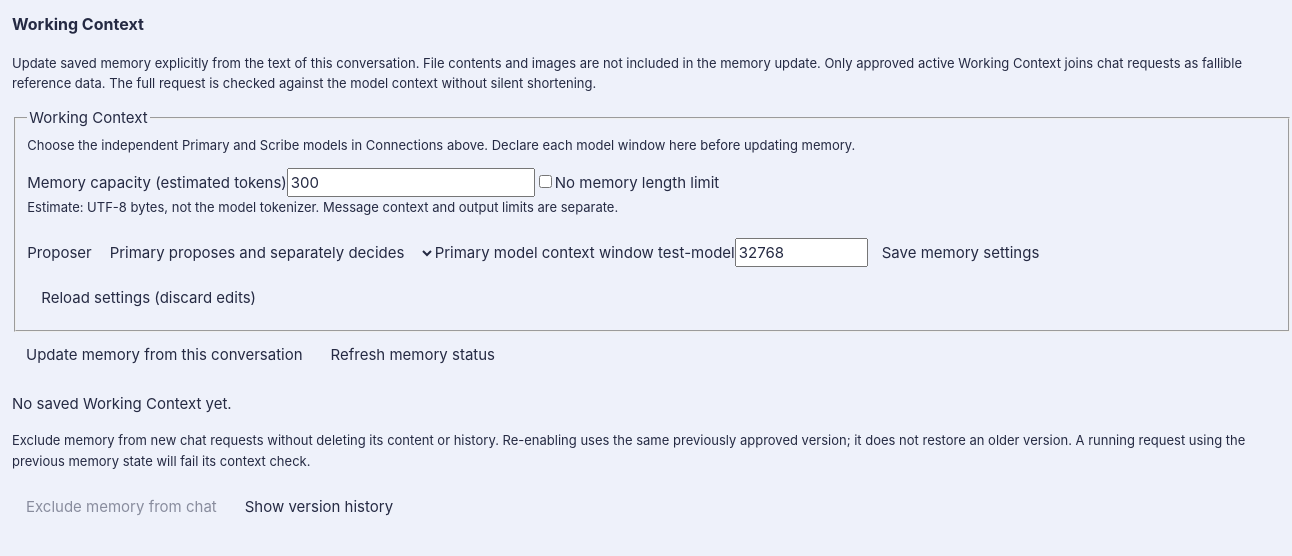
sends exact frozen memory request with native hashes and CAS
Click the button "Update memory from this conversation": (164, 355) [12,332,317,377]
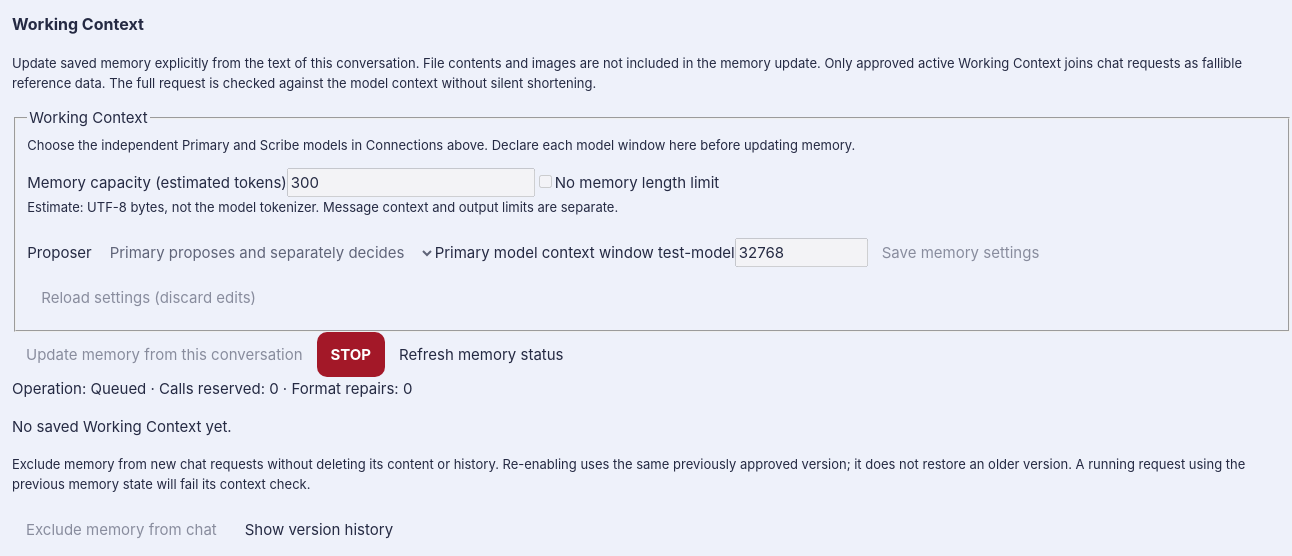
Expected: the button "STOP" is enabled, [317,332,385,377]
